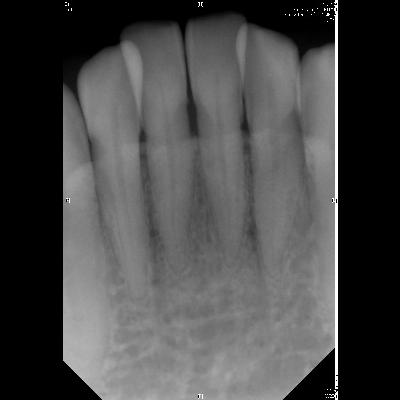tooth: (75, 38, 151, 304), (118, 20, 194, 276), (180, 9, 249, 268), (239, 25, 302, 285)
